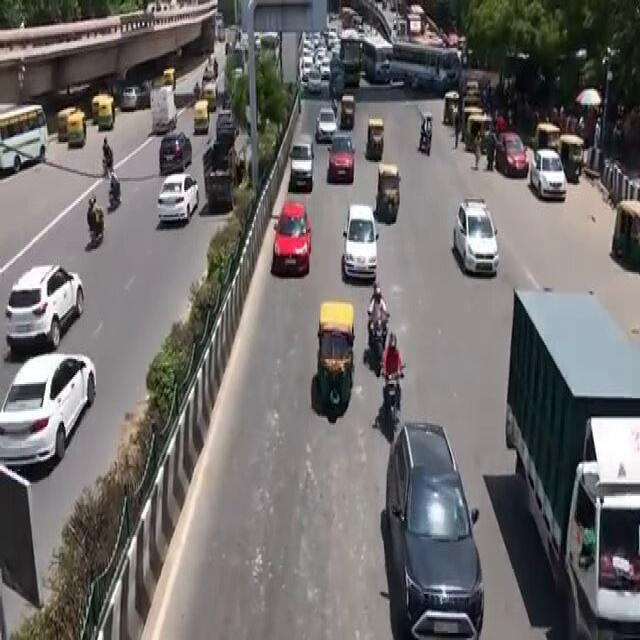three_wheeler: (304, 294, 358, 428)
